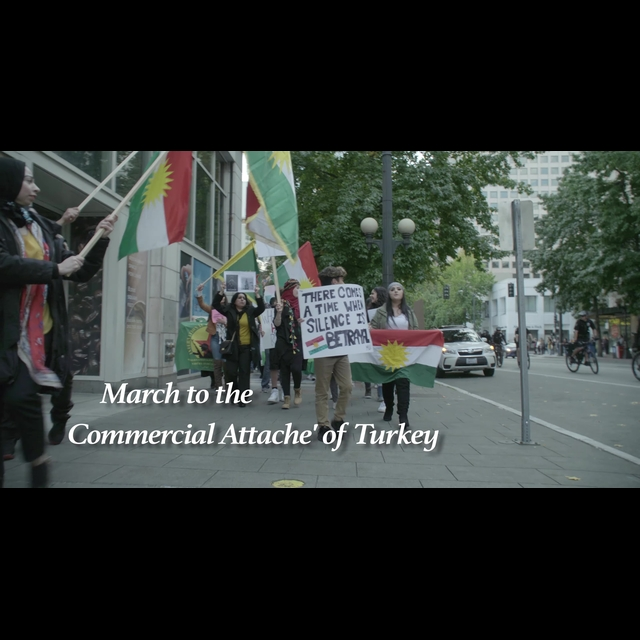IBKY: (359, 328, 424, 379), (135, 158, 180, 212)
